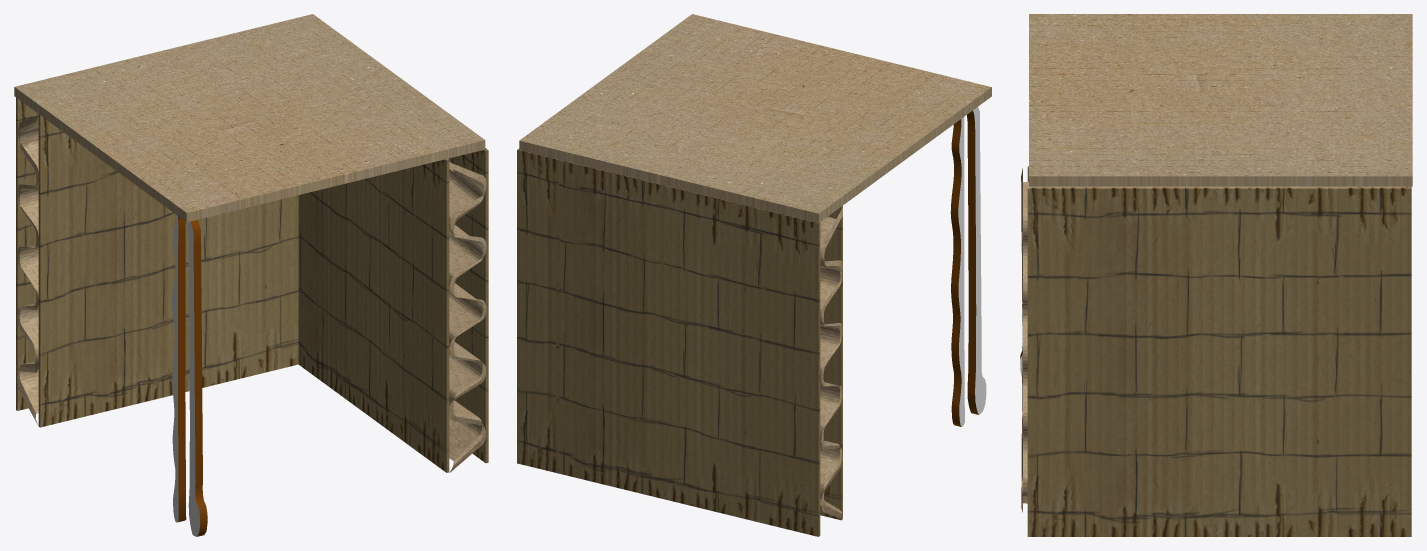
Rendered from wall_02_corner-2.fbx.
3 views of the same model, side by side, from view 1: azimuth 30°, elevation 25°; view 2: azimuth 150°, elevation 25°; view 3: azimuth 270°, elevation 25° (orthographic). The views are drawn at different scales.
Parts seen in each view (by area): view 1: Polygon, wall, wall_1, raster_1, haarklip, raster, Cap_1; view 2: wall, Polygon, haarklip, raster, Cap_1, wall_1; view 3: wall_1, Polygon, raster_1.
Part boxes in pixels (x1=…): Polygon: x1=14, y1=14, x2=485, y2=222; wall: x1=16, y1=97, x2=298, y2=427; wall_1: x1=298, y1=148, x2=488, y2=472; raster_1: x1=449, y1=161, x2=486, y2=472; haarklip: x1=178, y1=216, x2=207, y2=536; raster: x1=17, y1=116, x2=38, y2=424; Cap_1: x1=172, y1=214, x2=199, y2=536; wall: x1=520, y1=150, x2=842, y2=536; Polygon: x1=519, y1=14, x2=991, y2=222; haarklip: x1=950, y1=110, x2=978, y2=426; raster: x1=820, y1=207, x2=842, y2=519; Cap_1: x1=958, y1=107, x2=986, y2=426; wall_1: x1=517, y1=148, x2=559, y2=473; wall_1: x1=1027, y1=166, x2=1411, y2=536; Polygon: x1=1029, y1=14, x2=1412, y2=186; raster_1: x1=1021, y1=168, x2=1405, y2=512.
Size of the model in its own units: 263 by 271 by 265.
Materials: 5 (4 with a texture image).
